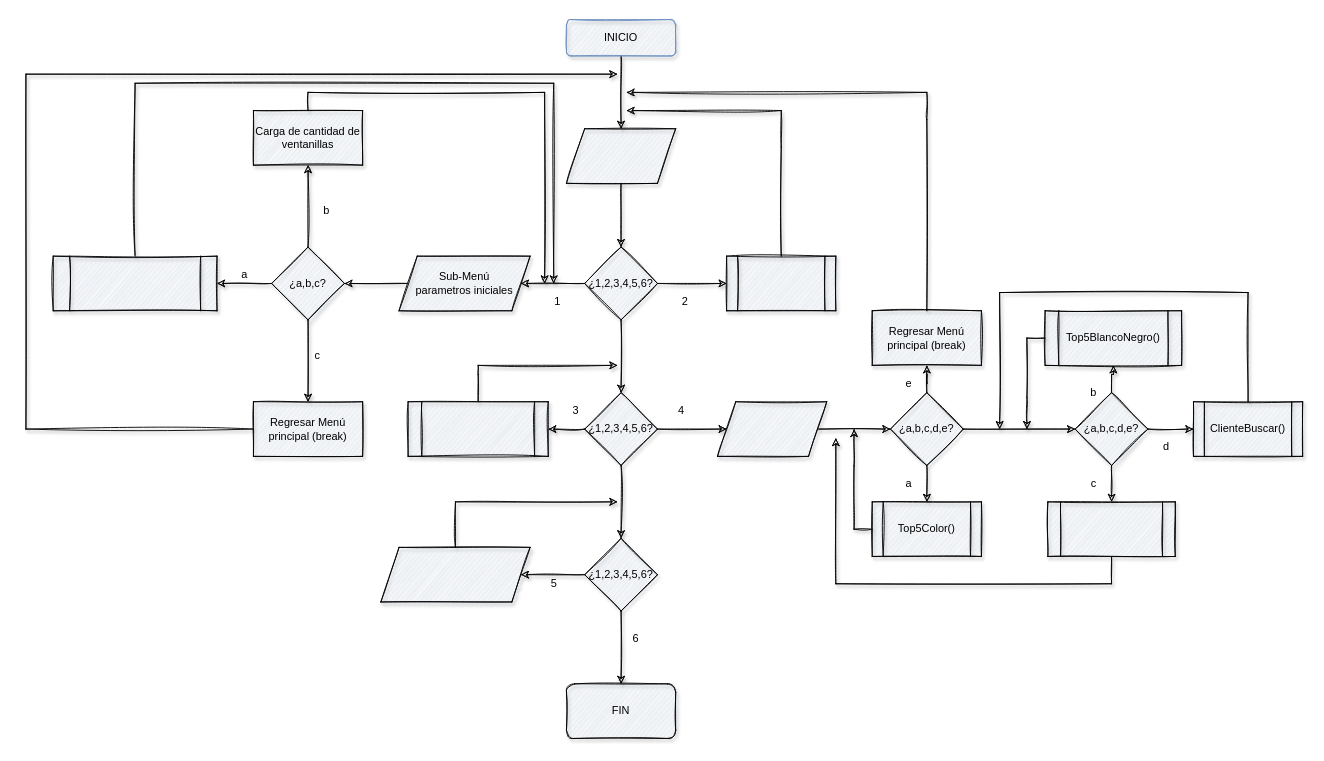
Some shapes in this 1324 by 761 pixel diagram are drawn without their labels. Here are the shapes that lost their labels. From the top down, the centre of each, then its label:
point (621, 157): Menú principal
point (135, 284): CargaMasivaClientes()
point (781, 284): EjecutarPaso()
point (479, 430): GenerarEstructuras()
point (772, 430): Sub-Menú Reportes
point (1112, 530): ClienteMasPasos()
point (456, 575): Información acerca del estudiante
